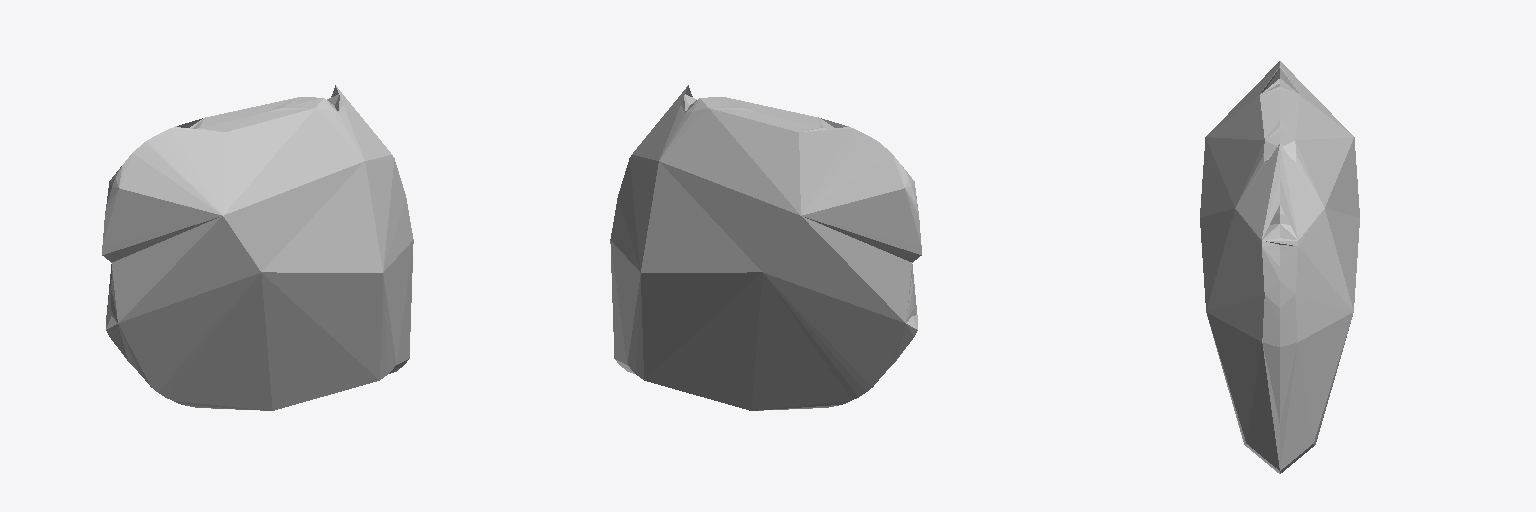
Rendered from coracao.obj.
The picture shows the model from 3 angles: view 1: azimuth 30°, elevation 25°; view 2: azimuth 150°, elevation 25°; view 3: azimuth 270°, elevation 25°; orthographic projection.
Parts seen in each view (by area): view 1: grp1; view 2: grp1; view 3: grp1.
Part boxes in pixels (x1,y1,x2,y2): grp1: (102,85,413,410); grp1: (610,85,921,410); grp1: (1200,61,1359,473).
Bounding box in the file's own units: 634 × 598 × 287.